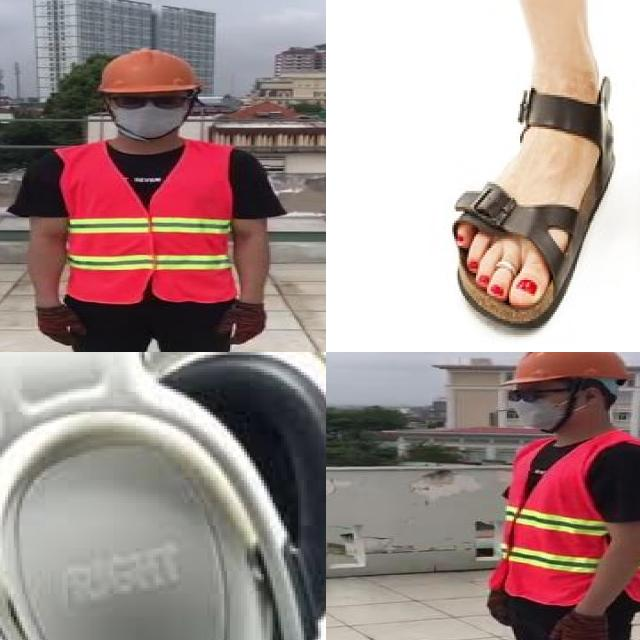Ear-protection: (0, 408, 281, 640)
face_mask: (502, 382, 572, 434), (113, 92, 187, 138)
glasses: (108, 92, 194, 113), (502, 382, 564, 407)
hand_glove: (34, 304, 88, 347), (218, 303, 268, 346), (548, 612, 610, 640)
head_helmet: (88, 51, 207, 94), (508, 352, 636, 388)
person: (0, 42, 285, 352), (455, 352, 640, 640)
vest: (52, 139, 244, 304), (491, 438, 640, 606)
